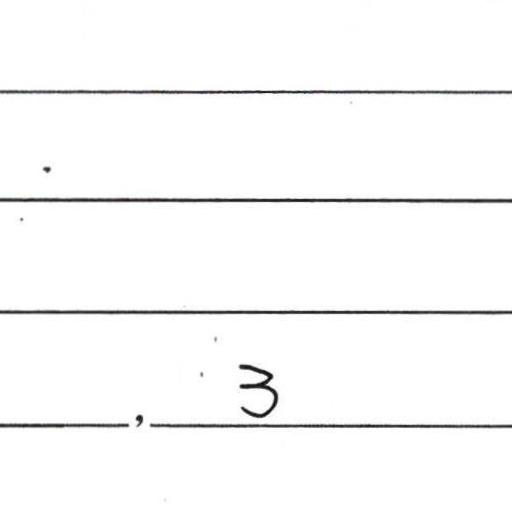ans: (232, 360, 283, 423)
